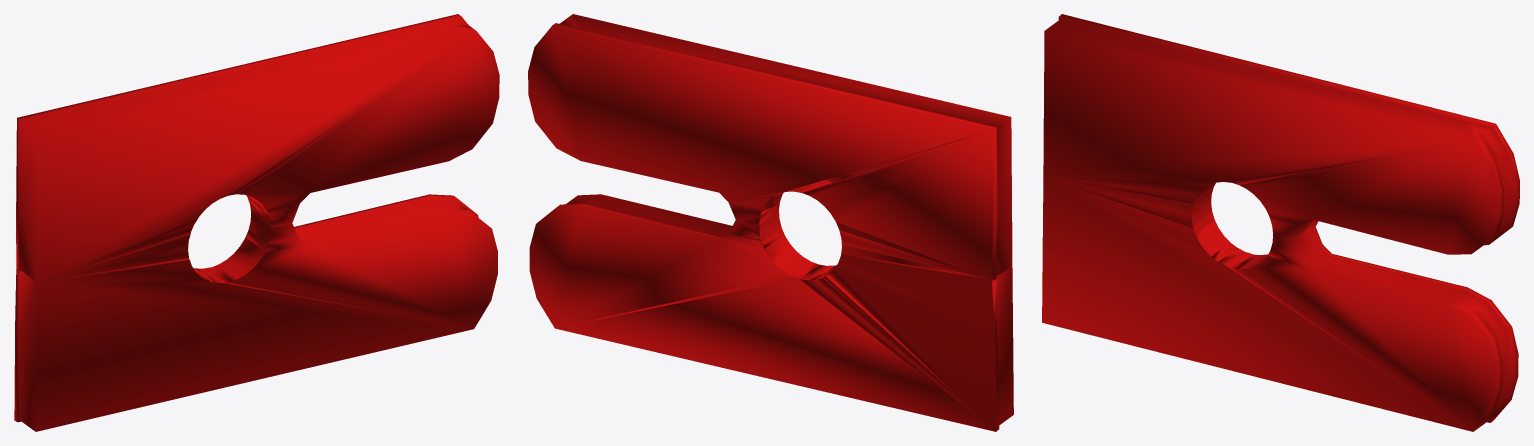
Rendered from lower_hull_fin4.obj.
The picture shows the model from 3 angles, left to right: view 1: azimuth 30°, elevation 25°; view 2: azimuth 150°, elevation 25°; view 3: azimuth 330°, elevation 25°; orthographic projection.
Parts seen in each view (by area): view 1: lower_hull_obj11.001; view 2: lower_hull_obj11.001; view 3: lower_hull_obj11.001.
Boxes of the visible parts, x1=… form: lower_hull_obj11.001: x1=14, y1=14, x2=499, y2=431; lower_hull_obj11.001: x1=528, y1=14, x2=1013, y2=431; lower_hull_obj11.001: x1=1042, y1=14, x2=1519, y2=431.
Size of the model in its own units: 0.601 by 0.3759 by 0.044.
